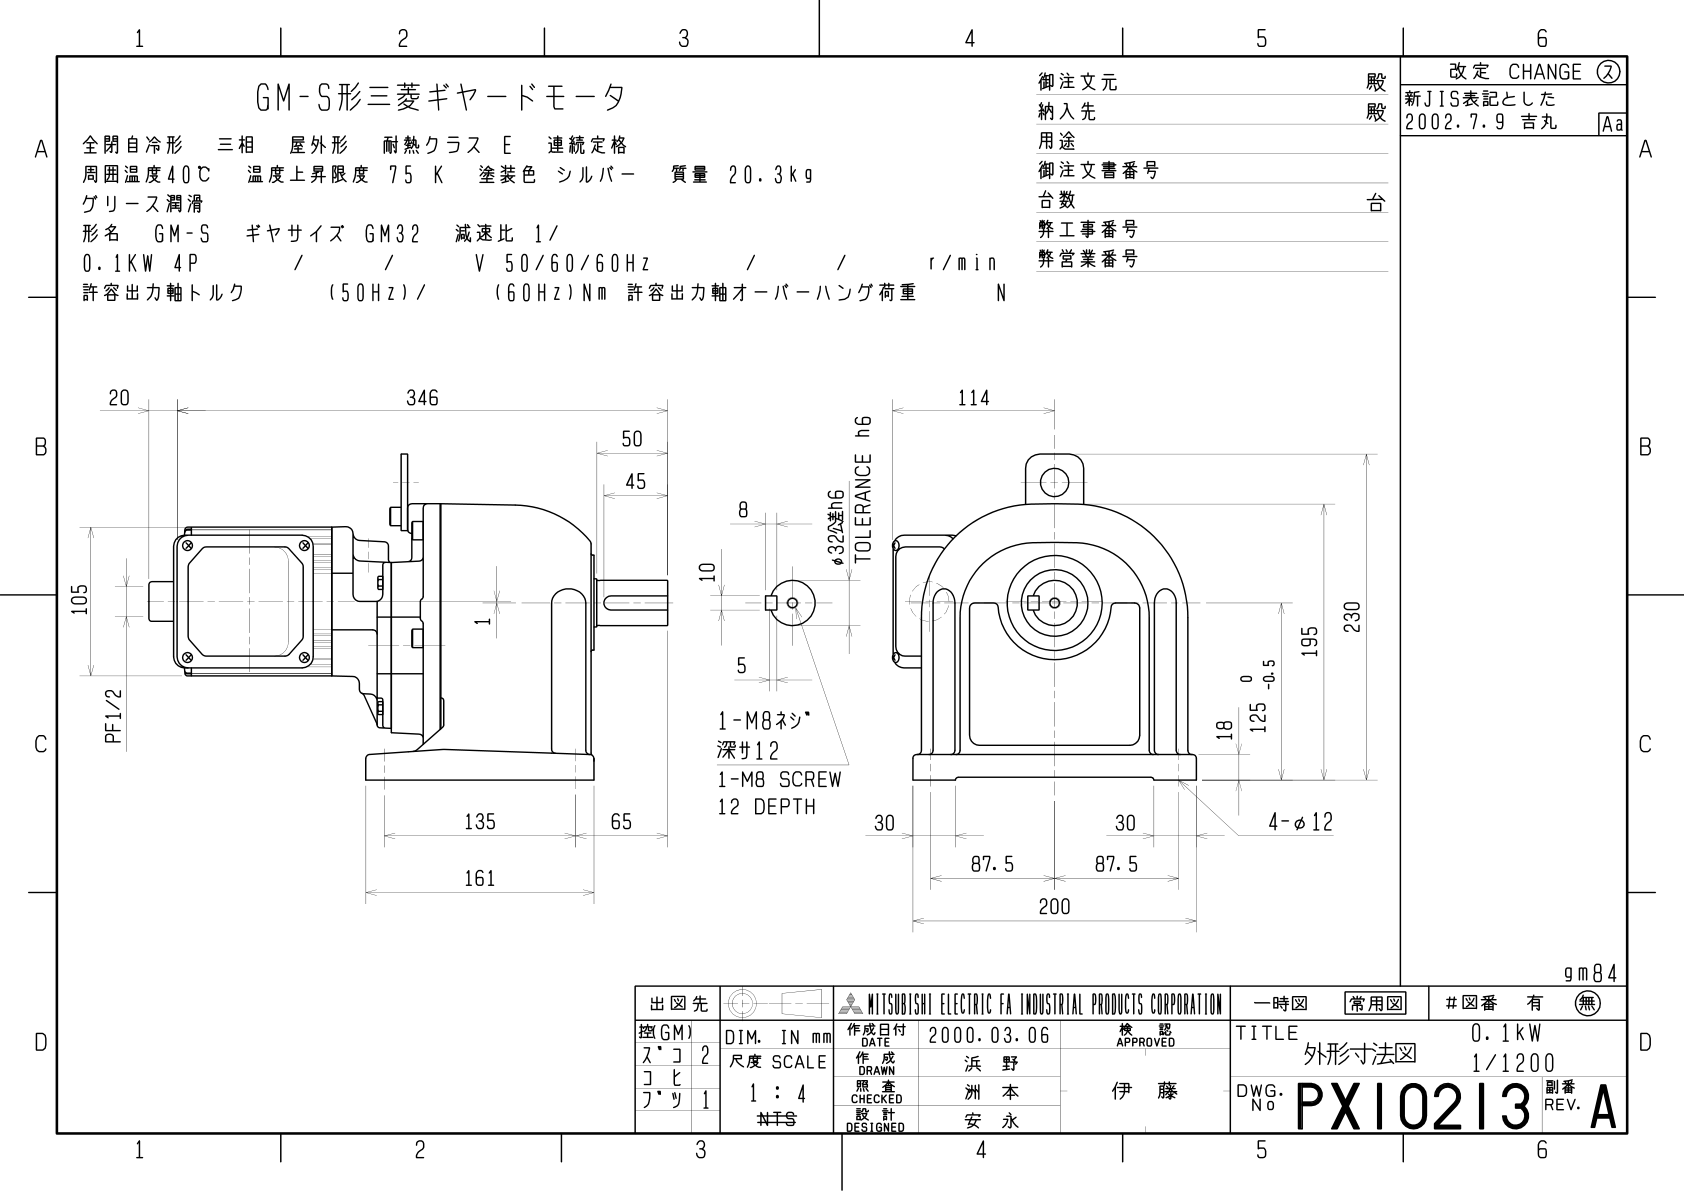GM_S_屋外＿三相_脚: (63, 373, 1393, 956)
